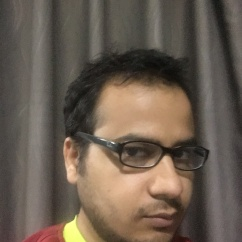glasses: (81, 131, 206, 171)
